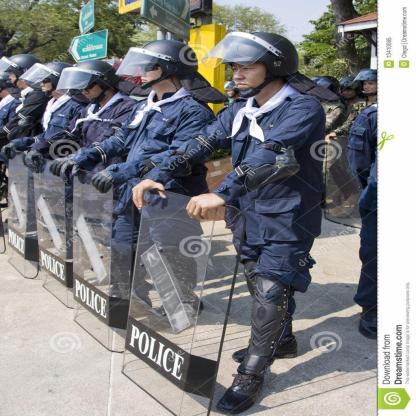face: (233, 57, 272, 91), (140, 62, 169, 89), (79, 80, 105, 104), (41, 77, 58, 95), (10, 69, 26, 86), (364, 78, 378, 94), (343, 85, 357, 100), (227, 88, 236, 98)
